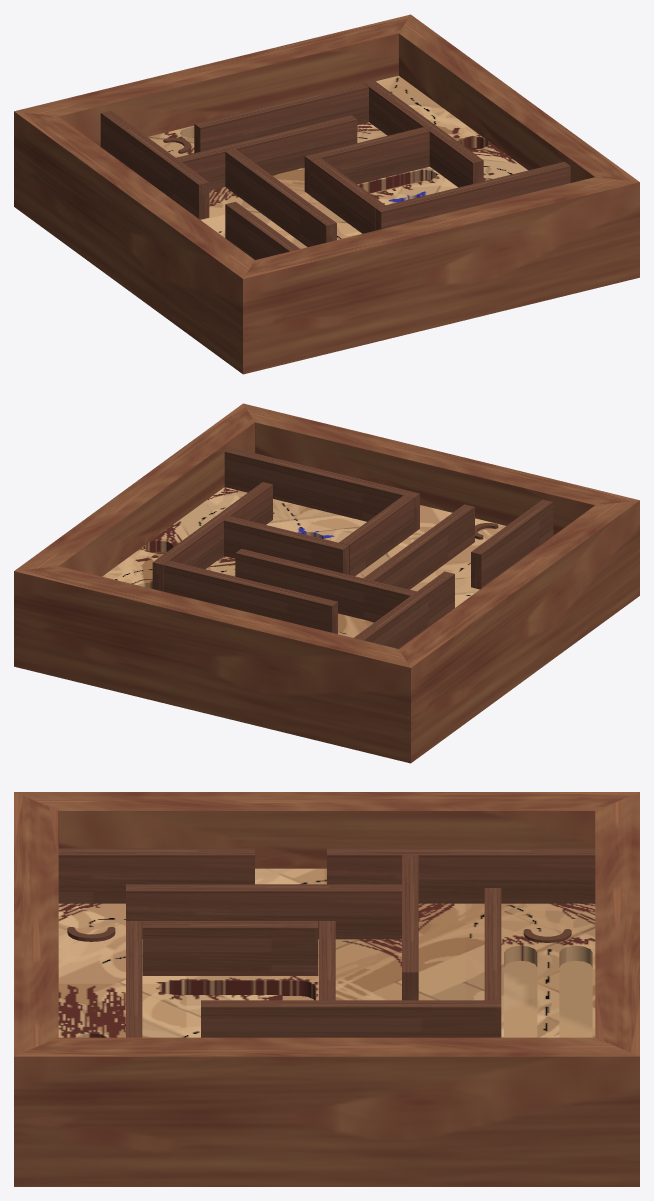
File: simple_puzzle.glb
3 views of the same model, one above another, from view 1: azimuth 30°, elevation 25°; view 2: azimuth 150°, elevation 25°; view 3: azimuth 270°, elevation 25° (orthographic). The views are drawn at different scales.
Visible parts, largest first — view 1: Outer Walls.003, Outer Walls.004, Outer Walls.001, Outer Walls.002, Floor, Wall.005, Wall.003, Wall.001, Wall, Wall.004, Wall.008, Wall.007 (+2 smaller); view 2: Outer Walls.001, Outer Walls.004, Outer Walls.003, Outer Walls.002, Floor, Wall.004, Wall.005, Wall.003, Wall, Wall.008, Wall.007, Wall.002 (+2 smaller); view 3: Outer Walls.002, Floor, Outer Walls.004, Wall.001, Wall, Wall.007, Outer Walls.001, Outer Walls.003, Wall.006, Wall.002, Floor.001, Wall.003 (+3 smaller).
Part boxes in pixels (box(x1,y1,x2,y2)): Outer Walls.003: box(243, 177, 639, 374); Outer Walls.004: box(14, 111, 254, 373); Outer Walls.001: box(15, 14, 410, 146); Outer Walls.002: box(399, 15, 638, 182); Floor: box(148, 75, 527, 248); Wall.005: box(194, 82, 368, 153); Wall.003: box(176, 115, 357, 190); Wall.001: box(100, 110, 209, 219); Wall: box(225, 149, 336, 246); Wall.004: box(375, 161, 570, 230); Wall.008: box(304, 127, 429, 195); Wall.007: box(363, 80, 483, 187); Outer Walls.001: box(14, 566, 410, 763); Outer Walls.004: box(399, 500, 639, 762); Outer Walls.003: box(243, 403, 638, 535); Outer Walls.002: box(15, 404, 254, 576); Floor: box(102, 487, 505, 637); Wall.004: box(224, 447, 419, 532); Wall.005: box(163, 560, 337, 633); Wall.003: box(235, 548, 416, 622); Wall: box(363, 504, 474, 589); Wall.008: box(224, 516, 348, 574); Wall.007: box(152, 482, 272, 591); Wall.002: box(471, 499, 553, 589); Outer Walls.002: box(14, 1037, 639, 1186); Floor: box(58, 868, 595, 1037); Outer Walls.004: box(14, 792, 639, 868); Wall.001: box(327, 848, 595, 903); Wall: box(126, 884, 402, 939); Wall.007: box(201, 1000, 501, 1037); Outer Walls.001: box(595, 792, 639, 1056); Outer Walls.003: box(14, 792, 58, 1056); Wall.006: box(142, 921, 318, 975); Wall.002: box(58, 848, 254, 903); Floor.001: box(282, 960, 592, 1037); Wall.003: box(402, 855, 418, 1000).
Bounding box in the file's own units: 0.2262 × 0.052 × 0.2262.
Materials: 5 (5 with a texture image).
